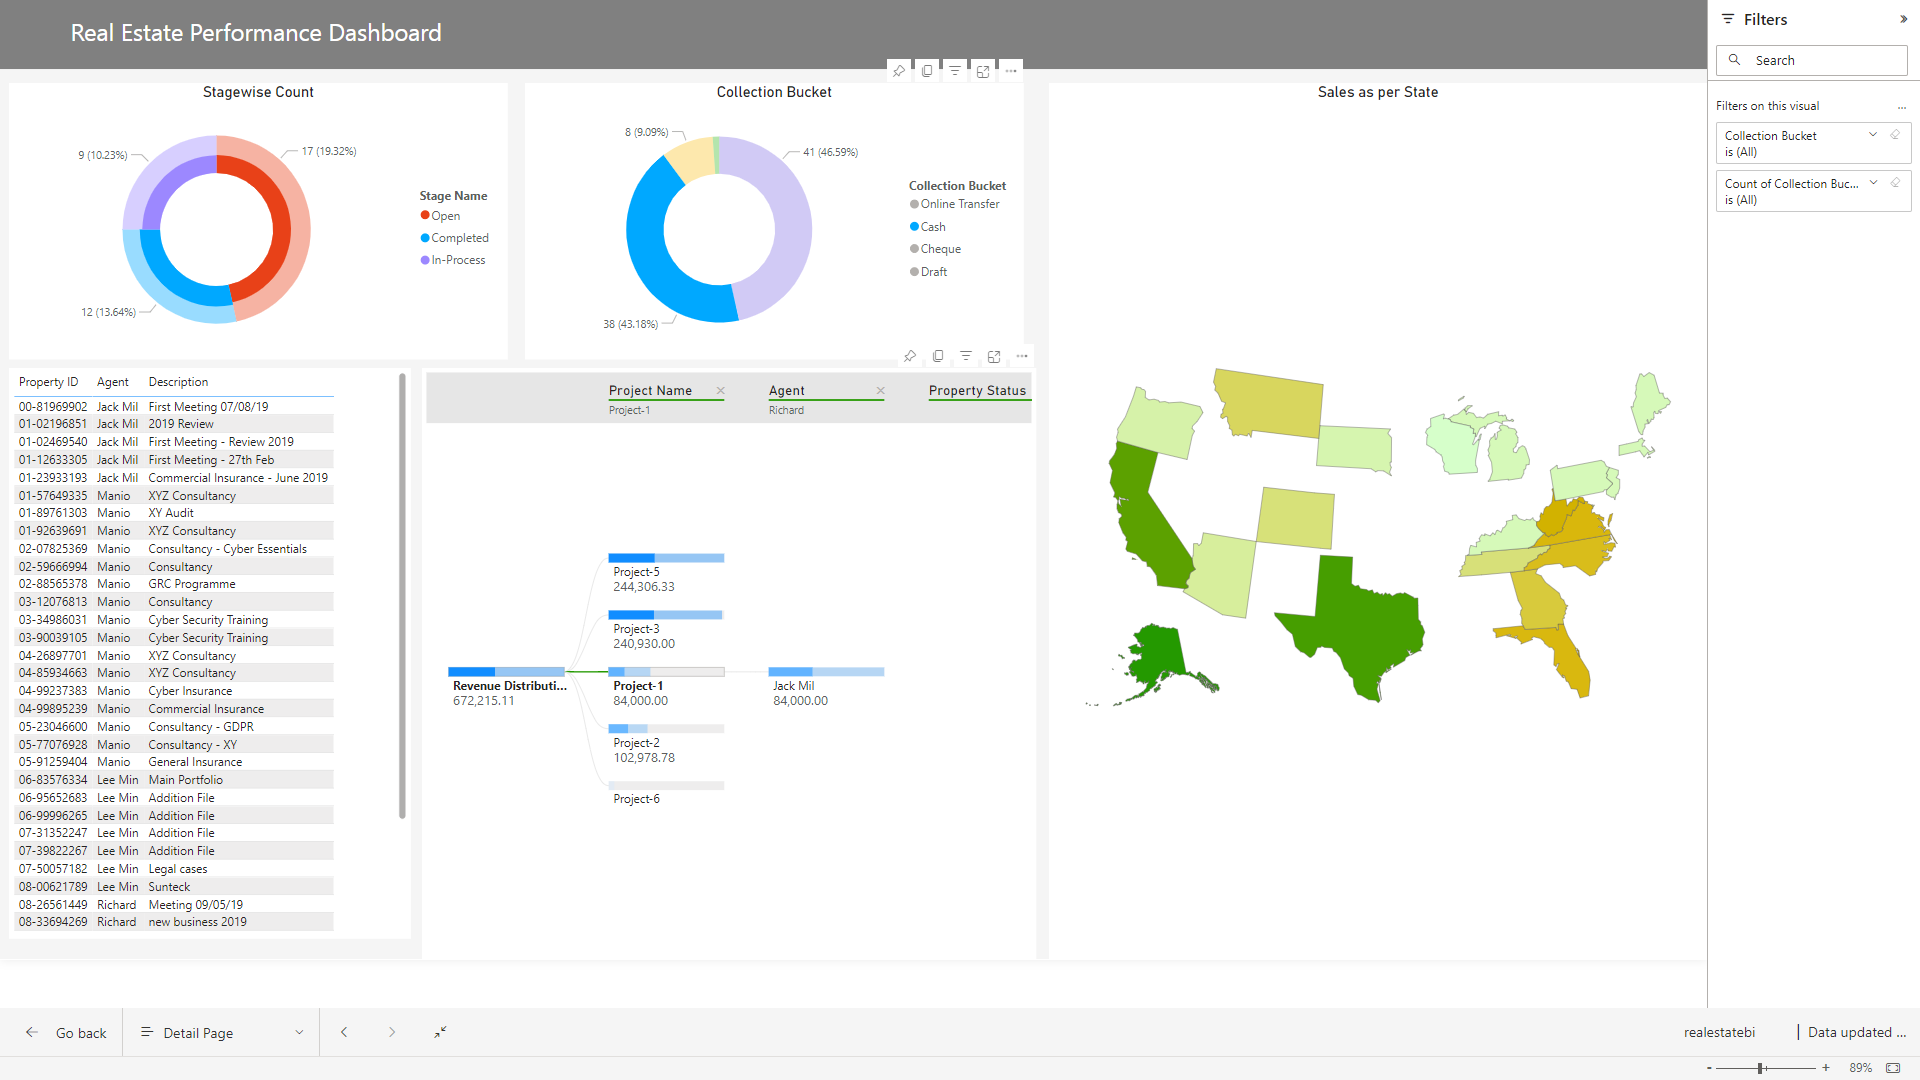

The page's visual inventory and layout, read from the dashboard file:
{"tool":"powerbi","page":{"name":"Detail Page","canvas":[1920,1080],"ordinal":1},"visuals":[{"type":"shape","box":[0,0,1920,78.8],"z":0},{"type":"textbox","box":[74.4,13.1,739.7,51.1],"z":1000},{"type":"shapeMap","title":"Sales as per State","fields":{"Category":["Real Estate Data.State"],"Value":["Sum(Real Estate Data.Sales)"]},"box":[1179.4,94.2,740.6,986.5],"z":1001},{"type":"donutChart","title":"Stagewise Count","fields":{"Category":["Real Estate Data.Stage Name"],"Y":["CountNonNull(Real Estate Data.Stage Name)"]},"box":[10.3,94.2,561,310.7],"z":1002},{"type":"donutChart","title":"Collection Bucket","fields":{"Category":["Real Estate Data.Collection Bucket"],"Y":["CountNonNull(Real Estate Data.Collection Bucket)"]},"box":[590.4,94.2,561,310.7],"z":1003},{"type":"tableEx","fields":{"Values":["Real Estate Data.Property ID","Real Estate Data.Agent","Real Estate Data.Description"]},"box":[10.3,415.2,452,642],"z":1004},{"type":"decompositionTreeVisual","fields":{"Analyze":["Sum(Real Estate Data.Revenue)"],"ExplainBy":["Real Estate Data.Project Name","Real Estate Data.Agent","Real Estate Data.Property Status"]},"box":[474.1,415.2,690.6,665.5],"z":1005}]}

Visuals, with their boxes on the page's 1920x1080 design canvas (x1, y1, x2, y2). These are canvas units, not pixel positions in the 1920x1080 screenshot, which may show the page scaled, cropped or inside an application window:
shape: detection(0, 0, 1920, 79)
textbox: detection(74, 13, 814, 64)
"Sales as per State" shapeMap: detection(1179, 94, 1920, 1081)
"Stagewise Count" donutChart: detection(10, 94, 571, 405)
"Collection Bucket" donutChart: detection(590, 94, 1151, 405)
tableEx - Real Estate Data.Property ID x Real Estate Data.Agent: detection(10, 415, 462, 1057)
decompositionTreeVisual - Sum(Real Estate Data.Revenue) x Real Estate Data.Project Name: detection(474, 415, 1165, 1081)
